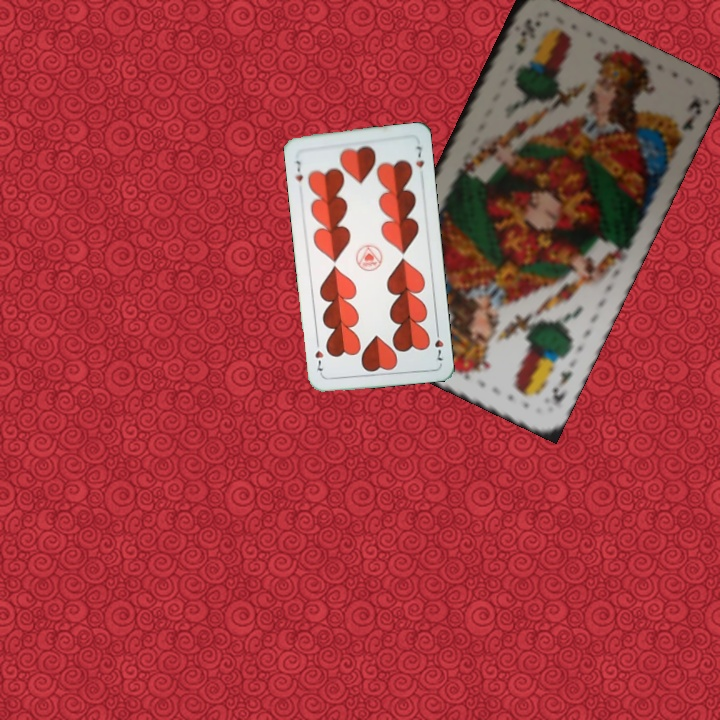EK: (548, 367, 576, 407), (511, 14, 536, 57)
H7: (431, 324, 446, 363), (290, 157, 305, 184)
